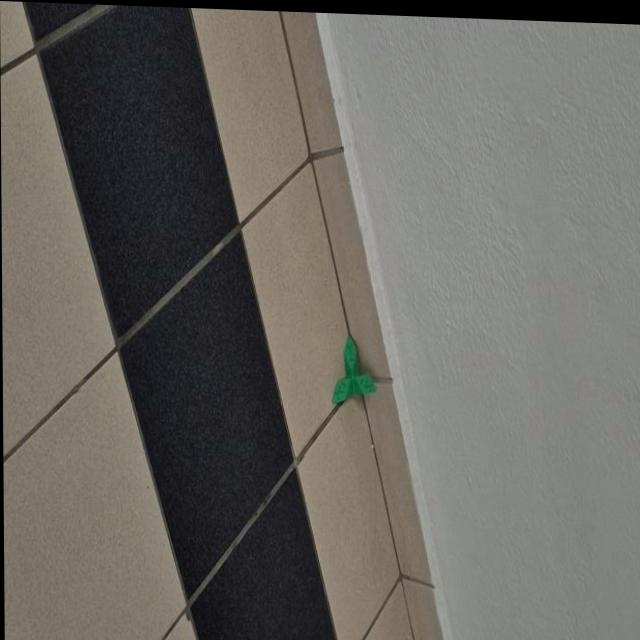eje: (330, 332, 378, 405)
